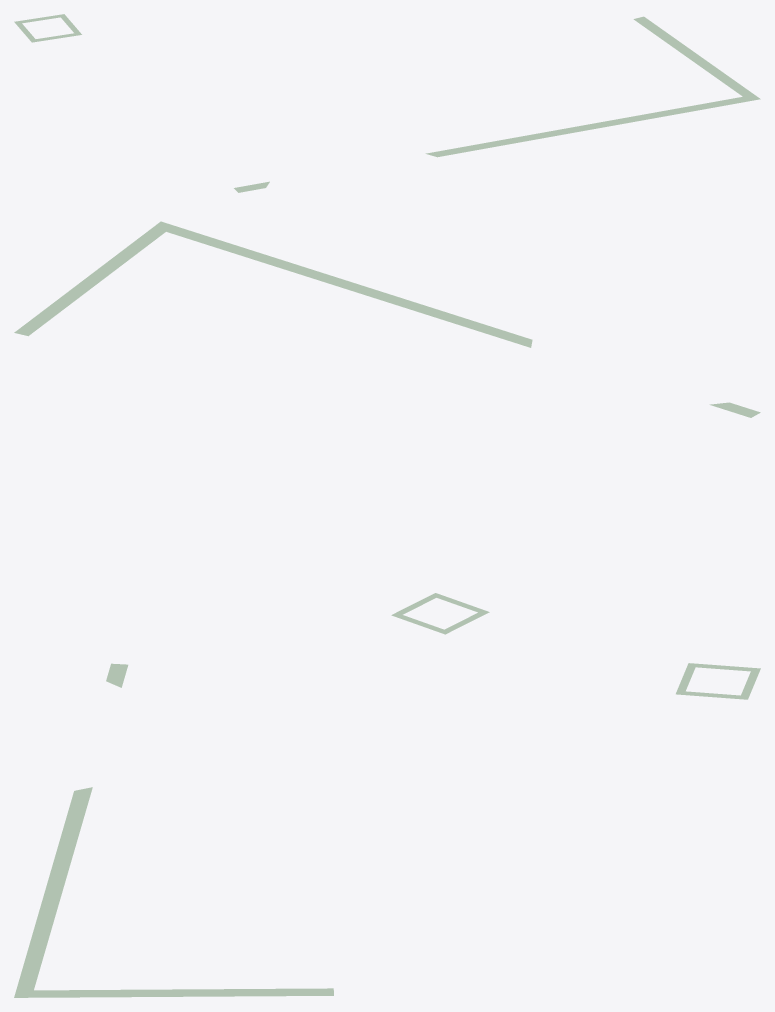
File: floor-486700.glb
3 views of the same model, one above another, from view 1: azimuth 30°, elevation 25°; view 2: azimuth 150°, elevation 25°; view 3: azimuth 270°, elevation 25° (orthographic). The views are drawn at different scales.
Visible parts, largest first — view 1: SectionBody_1,f5be9884-1ec4-4bdf-83fe-4a4f57898bca, SectionBody_3,817ea7ed-bc4a-429e-8aee-e4c509cef56e; view 2: SectionBody_1,f5be9884-1ec4-4bdf-83fe-4a4f57898bca, SectionBody_3,817ea7ed-bc4a-429e-8aee-e4c509cef56e; view 3: SectionBody_1,f5be9884-1ec4-4bdf-83fe-4a4f57898bca, SectionBody_3,817ea7ed-bc4a-429e-8aee-e4c509cef56e.
Boxes of the visible parts, <box> form: SectionBody_1,f5be9884-1ec4-4bdf-83fe-4a4f57898bca: <box>425,94,760,157</box>; SectionBody_3,817ea7ed-bc4a-429e-8aee-e4c509cef56e: <box>633,16,753,96</box>; SectionBody_1,f5be9884-1ec4-4bdf-83fe-4a4f57898bca: <box>153,221,532,347</box>; SectionBody_3,817ea7ed-bc4a-429e-8aee-e4c509cef56e: <box>14,227,165,336</box>; SectionBody_1,f5be9884-1ec4-4bdf-83fe-4a4f57898bca: <box>14,787,92,997</box>; SectionBody_3,817ea7ed-bc4a-429e-8aee-e4c509cef56e: <box>32,988,333,997</box>.
Size of the model in its own units: 22620 by 0 by 21325.
